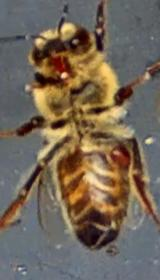varroa_mite: (102, 133, 137, 168)
